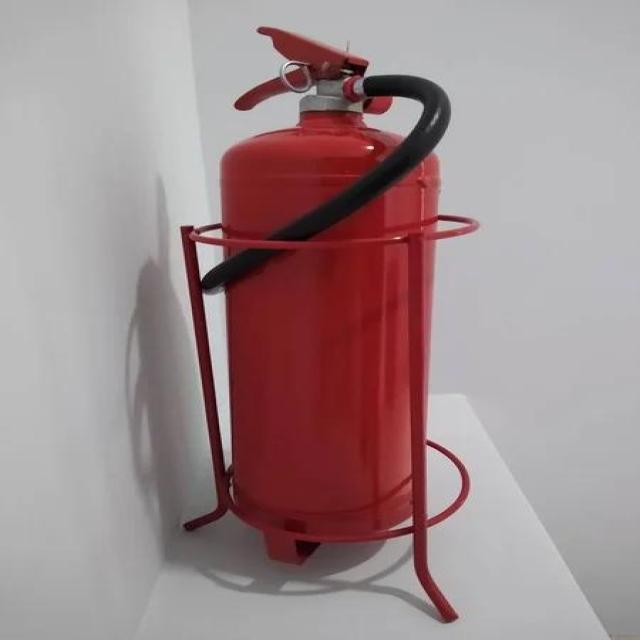fire_extinguisher: (201, 21, 457, 556)
